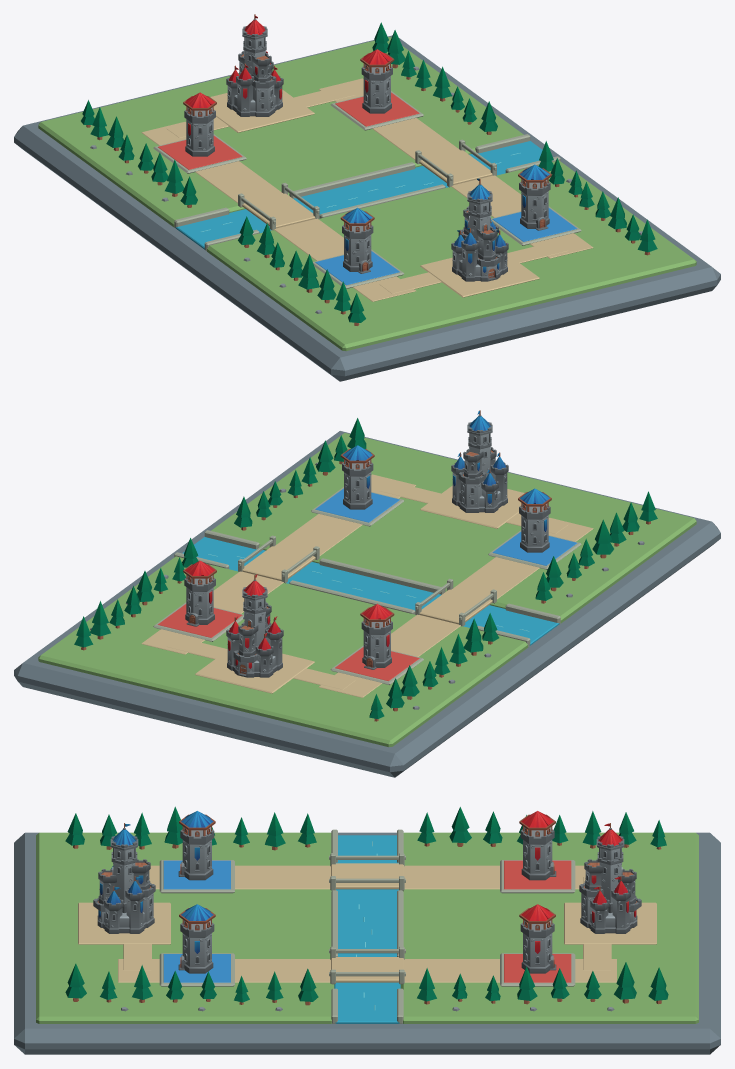
File: TwinbridgeArena.fbx
The picture shows the model from 3 angles, top to bottom: view 1: azimuth 30°, elevation 25°; view 2: azimuth 150°, elevation 25°; view 3: azimuth 270°, elevation 25°; orthographic projection. The views are drawn at different scales.
Visible parts, largest first — view 1: SM_GrassBank_-1, SM_GrassBank_1, SM_ArenaPlinth, SM_River, SM_blue_MainCastle, SM_red_MainCastle, SM_blue_Lane, SM_red_Lane, SM_red_Lane.001, SM_blue_Lane.001, SM_blue_KeepPad, SM_blue_Tower_5 (+15 smaller); view 2: SM_GrassBank_1, SM_GrassBank_-1, SM_ArenaPlinth, SM_River, SM_blue_MainCastle, SM_red_MainCastle, SM_red_Lane, SM_blue_Lane, SM_blue_Lane.001, SM_red_Lane.001, SM_red_KeepPad, SM_red_Tower_5 (+15 smaller); view 3: SM_GrassBank_-1, SM_GrassBank_1, SM_ArenaPlinth, SM_River, SM_blue_MainCastle, SM_red_MainCastle, SM_red_Lane.001, SM_blue_Lane.001, SM_blue_Lane, SM_red_Lane, SM_blue_KeepPad, SM_red_KeepPad (+28 smaller).
Part boxes in pixels (x1=…): SM_GrassBank_-1: x1=207, y1=160, x2=696, y2=351; SM_GrassBank_1: x1=38, y1=37, x2=523, y2=227; SM_ArenaPlinth: x1=14, y1=35, x2=720, y2=381; SM_River: x1=175, y1=141, x2=542, y2=249; SM_blue_MainCastle: x1=451, y1=178, x2=508, y2=281; SM_red_MainCastle: x1=226, y1=14, x2=283, y2=116; SM_blue_Lane: x1=274, y1=218, x2=415, y2=301; SM_red_Lane: x1=141, y1=122, x2=281, y2=203; SM_red_Lane.001: x1=319, y1=78, x2=458, y2=159; SM_blue_Lane.001: x1=451, y1=175, x2=593, y2=258; SM_blue_KeepPad: x1=420, y1=254, x2=539, y2=297; SM_blue_Tower_5: x1=518, y1=164, x2=551, y2=230; SM_GrassBank_1: x1=38, y1=556, x2=527, y2=747; SM_GrassBank_-1: x1=211, y1=433, x2=696, y2=623; SM_ArenaPlinth: x1=14, y1=431, x2=720, y2=777; SM_River: x1=182, y1=537, x2=559, y2=645; SM_blue_MainCastle: x1=451, y1=410, x2=508, y2=512; SM_red_MainCastle: x1=226, y1=574, x2=283, y2=677; SM_red_Lane: x1=319, y1=614, x2=460, y2=697; SM_blue_Lane: x1=453, y1=518, x2=593, y2=599; SM_blue_Lane.001: x1=276, y1=474, x2=415, y2=555; SM_red_Lane.001: x1=141, y1=571, x2=283, y2=654; SM_red_KeepPad: x1=195, y1=650, x2=314, y2=693; SM_red_Tower_5: x1=183, y1=560, x2=216, y2=626; SM_GrassBank_-1: x1=36, y1=832, x2=334, y2=1023; SM_GrassBank_1: x1=400, y1=832, x2=698, y2=1023; SM_ArenaPlinth: x1=14, y1=832, x2=720, y2=1054; SM_River: x1=334, y1=835, x2=400, y2=1023; SM_blue_MainCastle: x1=93, y1=823, x2=155, y2=933; SM_red_MainCastle: x1=579, y1=823, x2=641, y2=933; SM_red_Lane.001: x1=404, y1=959, x2=616, y2=982; SM_blue_Lane.001: x1=118, y1=959, x2=330, y2=982; SM_blue_Lane: x1=149, y1=865, x2=330, y2=889; SM_red_Lane: x1=404, y1=865, x2=585, y2=889; SM_blue_KeepPad: x1=78, y1=902, x2=170, y2=944; SM_red_KeepPad: x1=564, y1=902, x2=656, y2=944.
Bounding box in the file's own units: 2200 × 666 × 3200.
